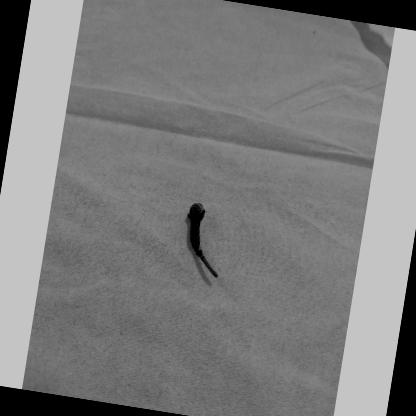sedang: (187, 203, 206, 251)
